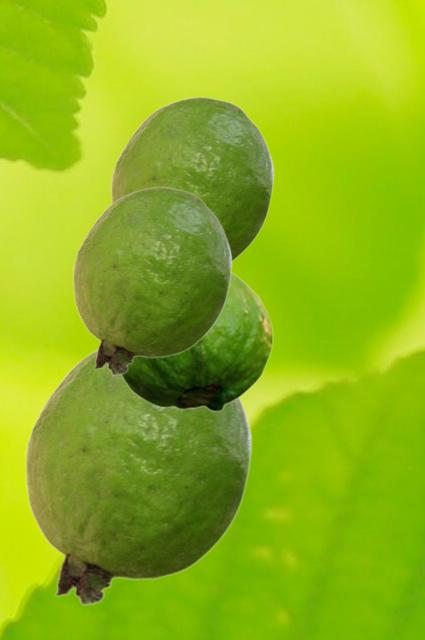guava: (24, 349, 251, 605), (72, 186, 231, 375), (110, 96, 273, 262), (120, 271, 272, 411)
